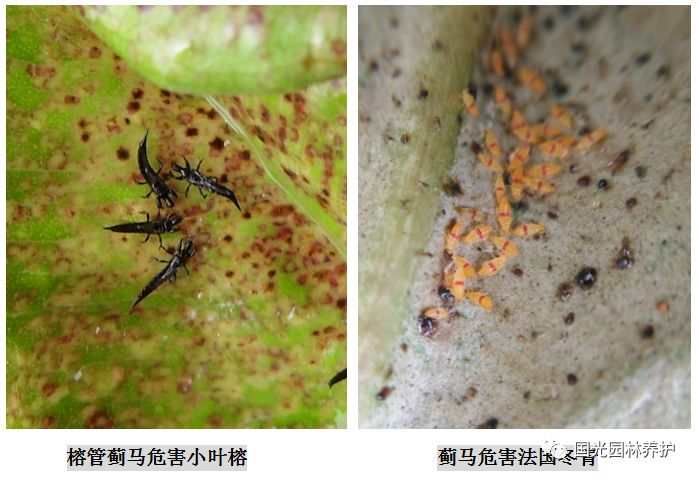Phlaeothripidae: (129, 237, 198, 313), (168, 155, 245, 216), (130, 128, 182, 210), (102, 208, 187, 246)
